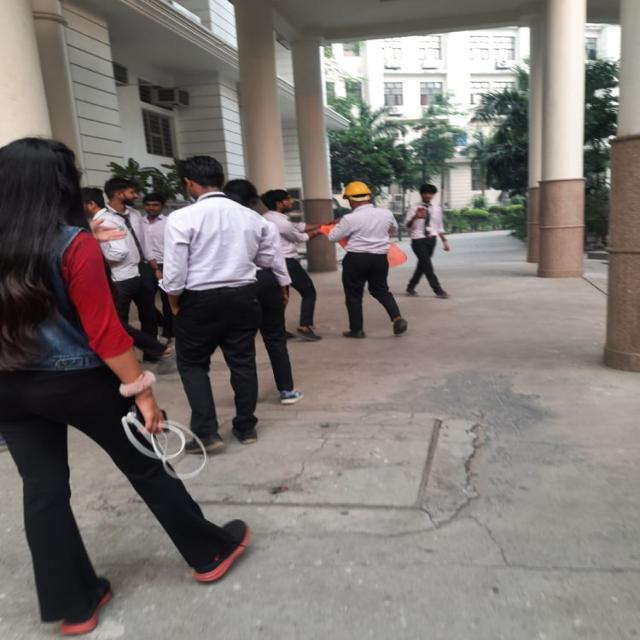no jacket: (328, 181, 407, 334)
unsafe: (0, 135, 154, 623), (159, 157, 261, 424), (94, 176, 160, 363), (262, 188, 324, 343), (403, 181, 456, 301)
